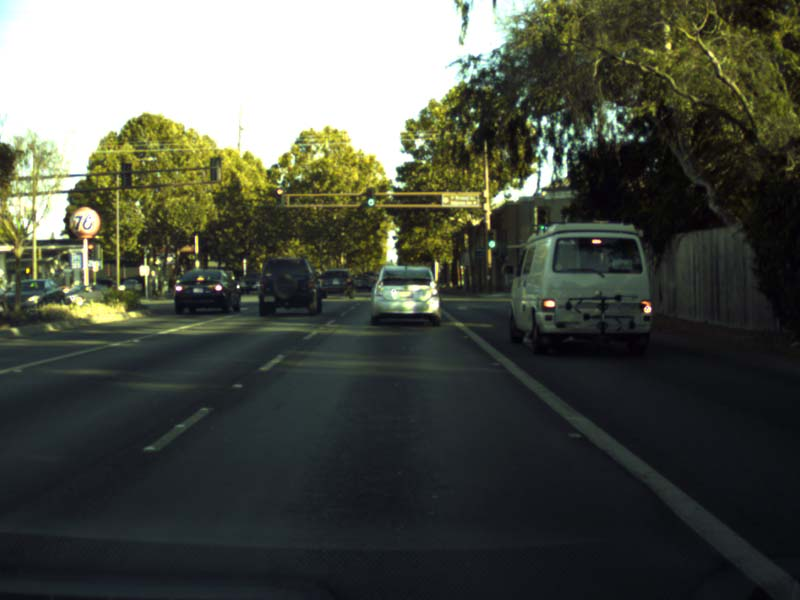Green: (538, 207, 547, 230), (487, 230, 496, 248), (366, 187, 374, 206)
Red: (275, 188, 282, 204)
